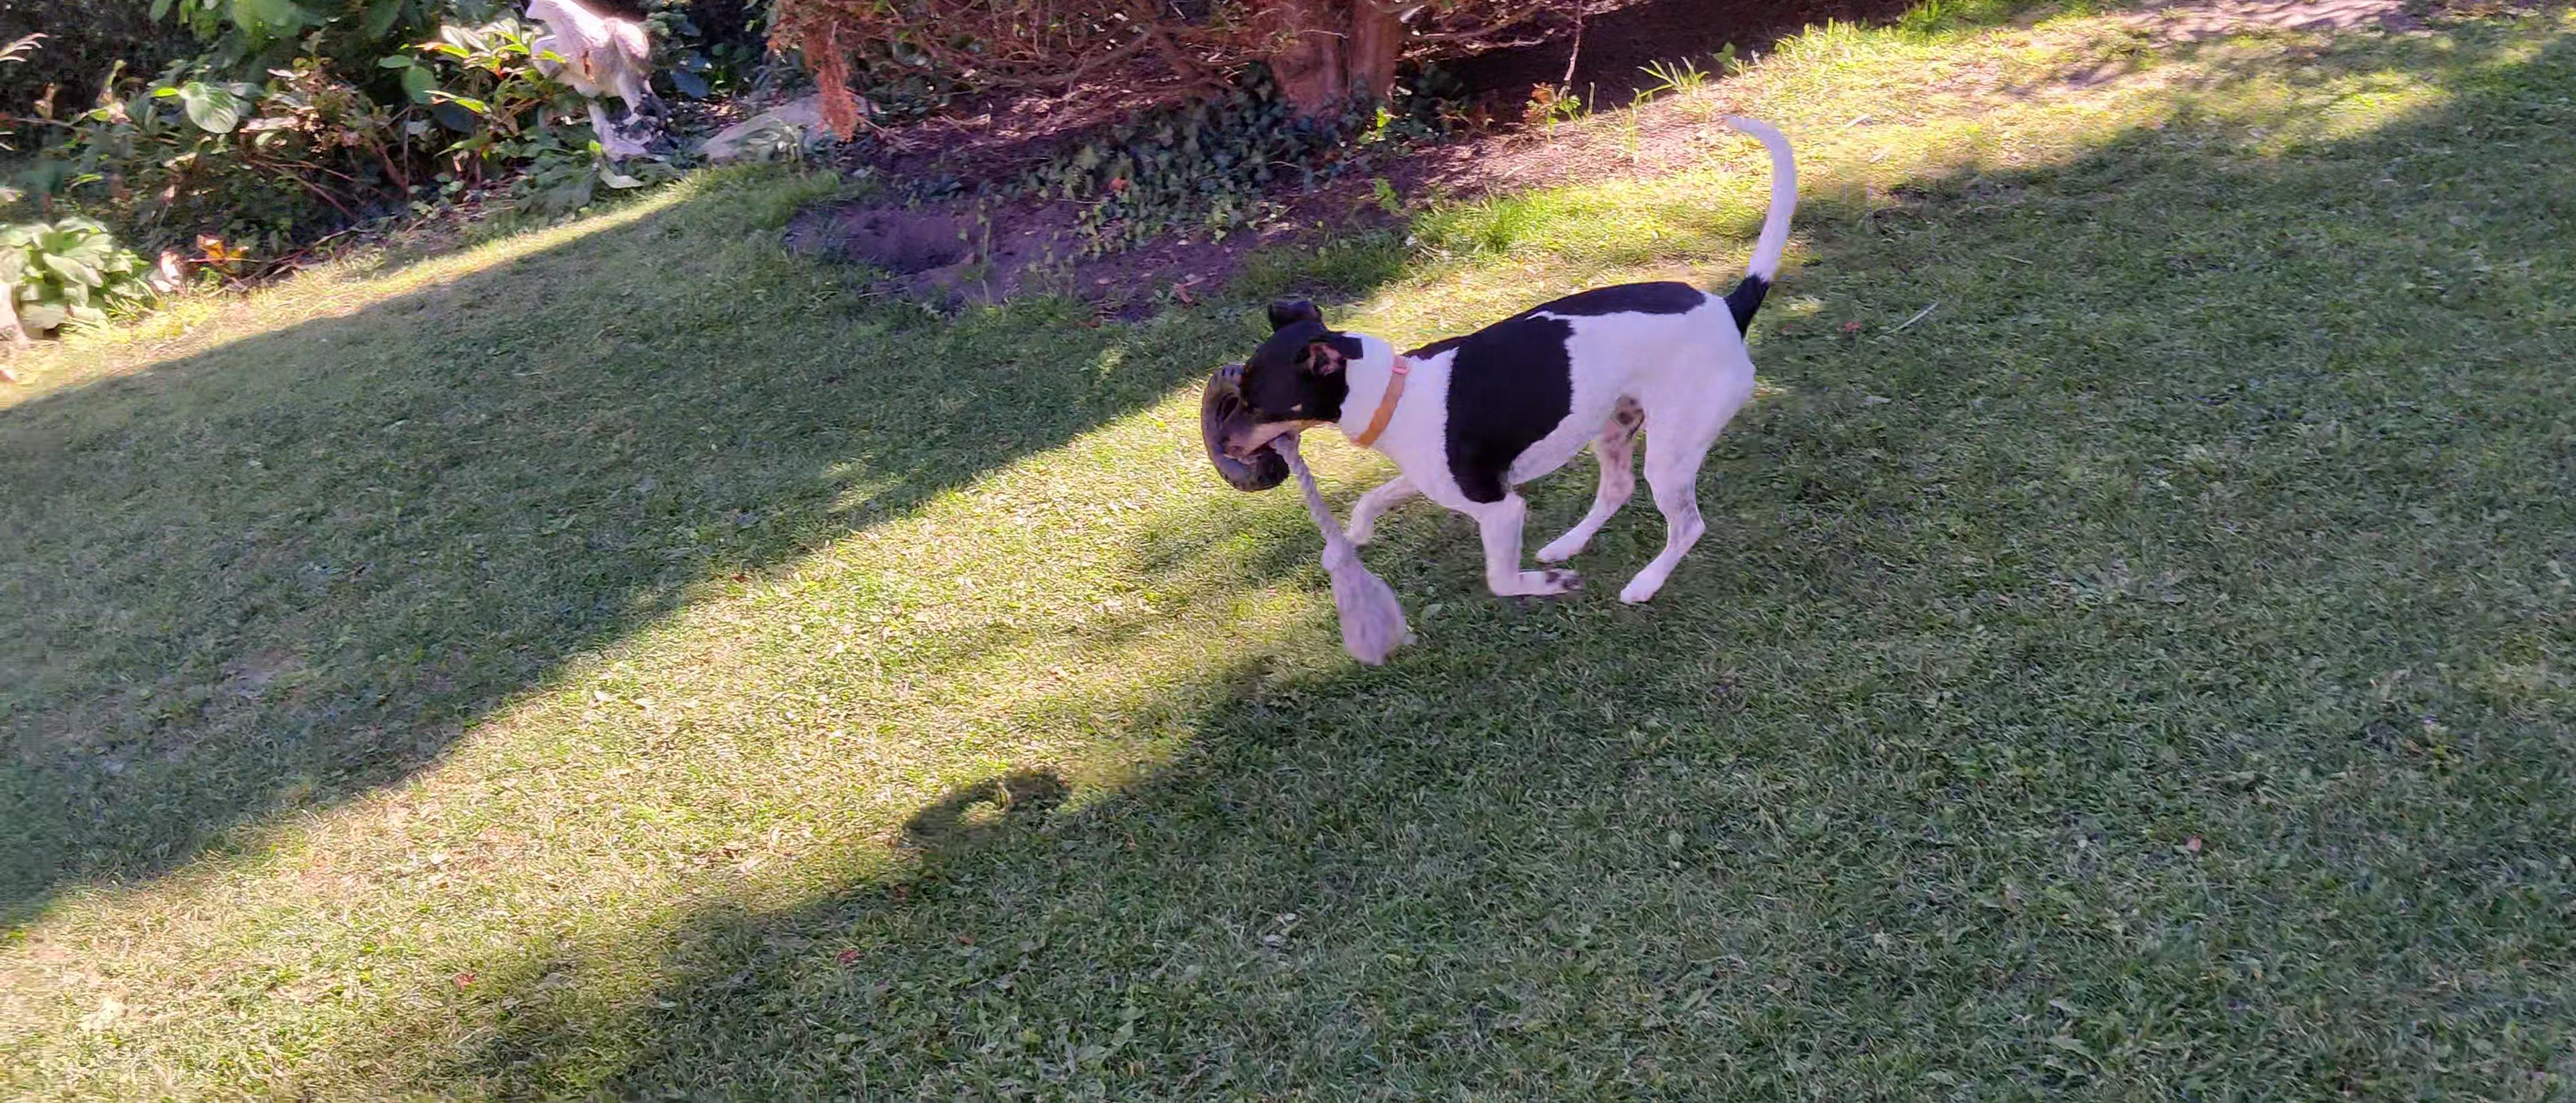Dog: (1207, 105, 1802, 607)
